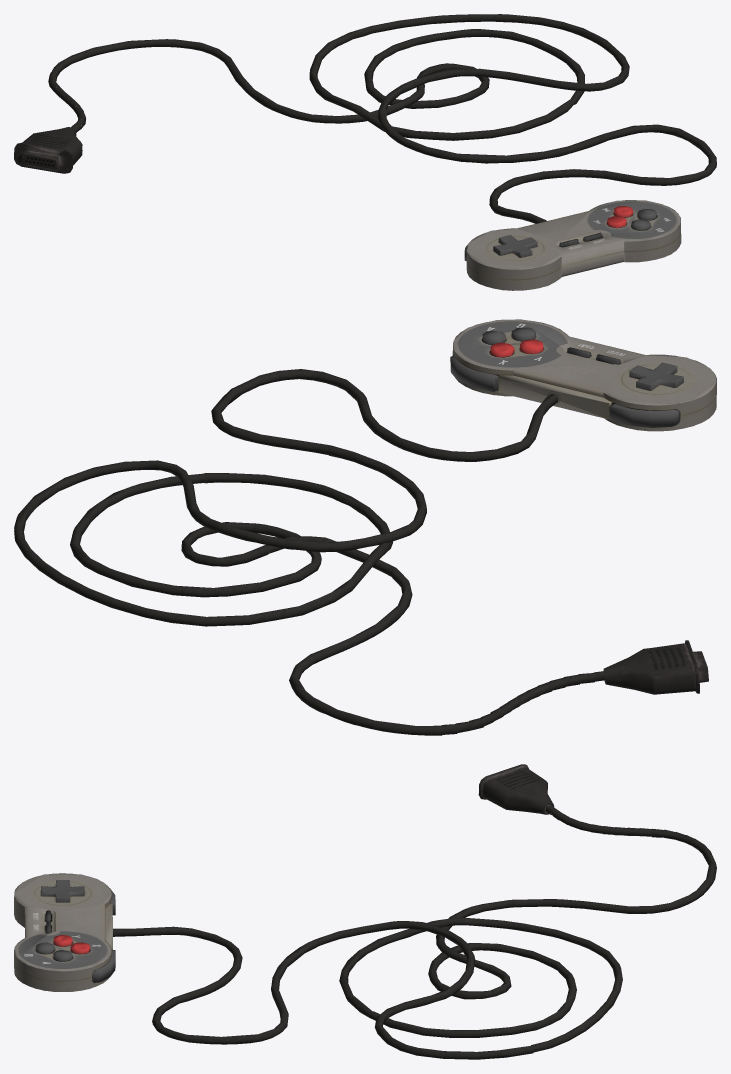
File: gamepad.glb
3 views of the same model, one above another, from view 1: azimuth 30°, elevation 25°; view 2: azimuth 150°, elevation 25°; view 3: azimuth 270°, elevation 25° (orthographic). The views are drawn at different scales.
Visible parts, largest first — view 1: gamepad; view 2: gamepad; view 3: gamepad.
Boxes of the visible parts, box(x1,y1,x2,y2) form: gamepad: box(14, 14, 716, 290); gamepad: box(14, 319, 716, 735); gamepad: box(14, 764, 716, 1059).
Size of the model in its own units: 0.4042 by 0.0191 by 0.4349.
Materials: 1 (1 with a texture image).
